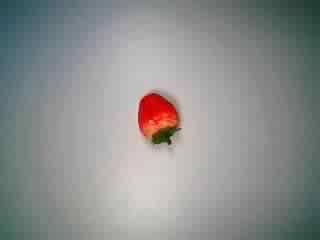strawberry: (122, 90, 187, 152)
